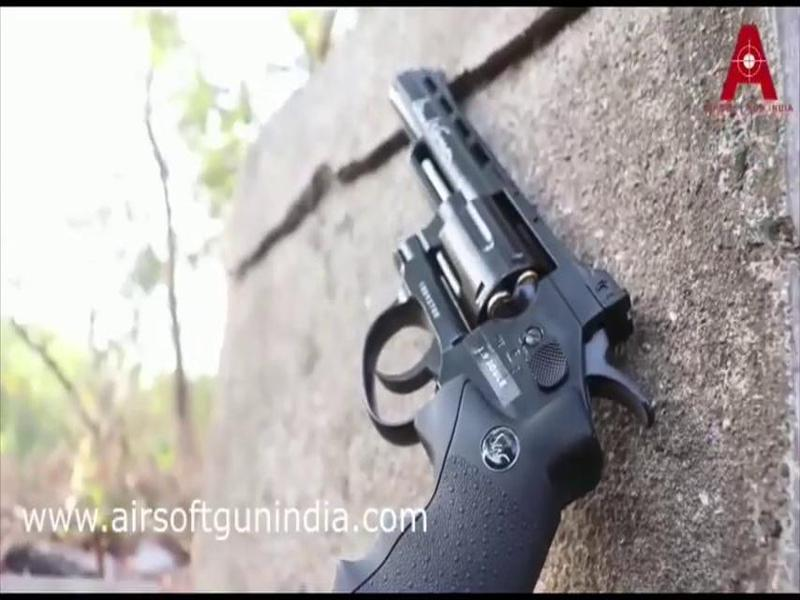Revolver: (307, 45, 688, 600)
